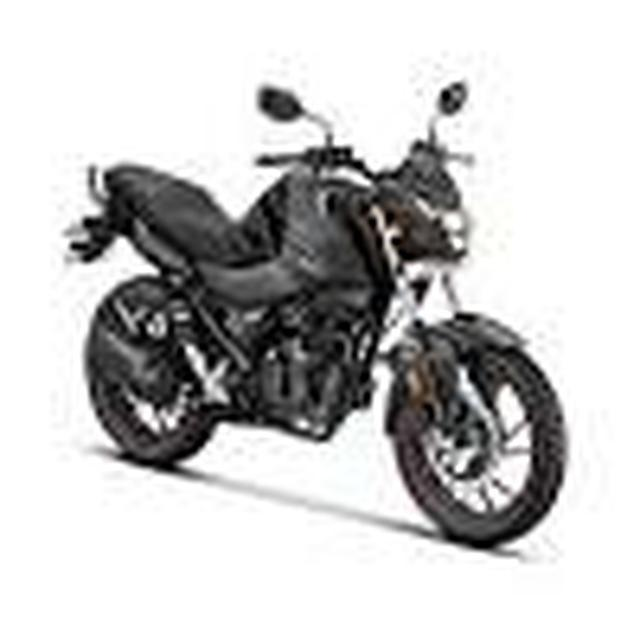motorcycle: (61, 75, 572, 554)
